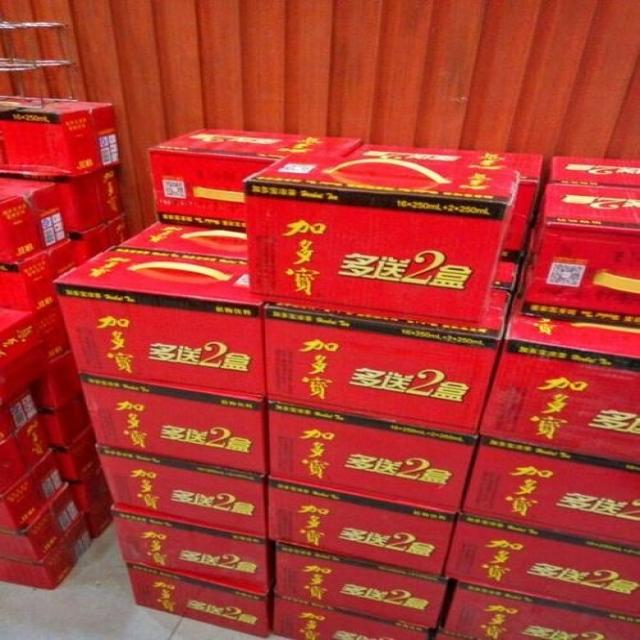box: (241, 154, 521, 322), (266, 288, 512, 433), (477, 267, 637, 460), (54, 250, 266, 393), (344, 141, 543, 268), (266, 394, 476, 511), (148, 127, 365, 227), (443, 512, 640, 616), (458, 435, 640, 544), (265, 476, 457, 578), (78, 374, 268, 476), (264, 538, 454, 635), (95, 443, 271, 538), (521, 184, 640, 324), (111, 504, 271, 596), (440, 578, 640, 639), (125, 564, 275, 636), (0, 94, 120, 179), (274, 594, 439, 639), (1, 170, 76, 265), (0, 515, 92, 591), (1, 482, 86, 562), (0, 237, 79, 308), (102, 220, 248, 258), (1, 450, 67, 531), (1, 412, 52, 499), (73, 160, 123, 235), (538, 154, 639, 188), (36, 394, 95, 452), (0, 343, 49, 404), (1, 307, 46, 367), (28, 363, 83, 410), (1, 389, 38, 444), (54, 434, 97, 481), (68, 467, 111, 513)
